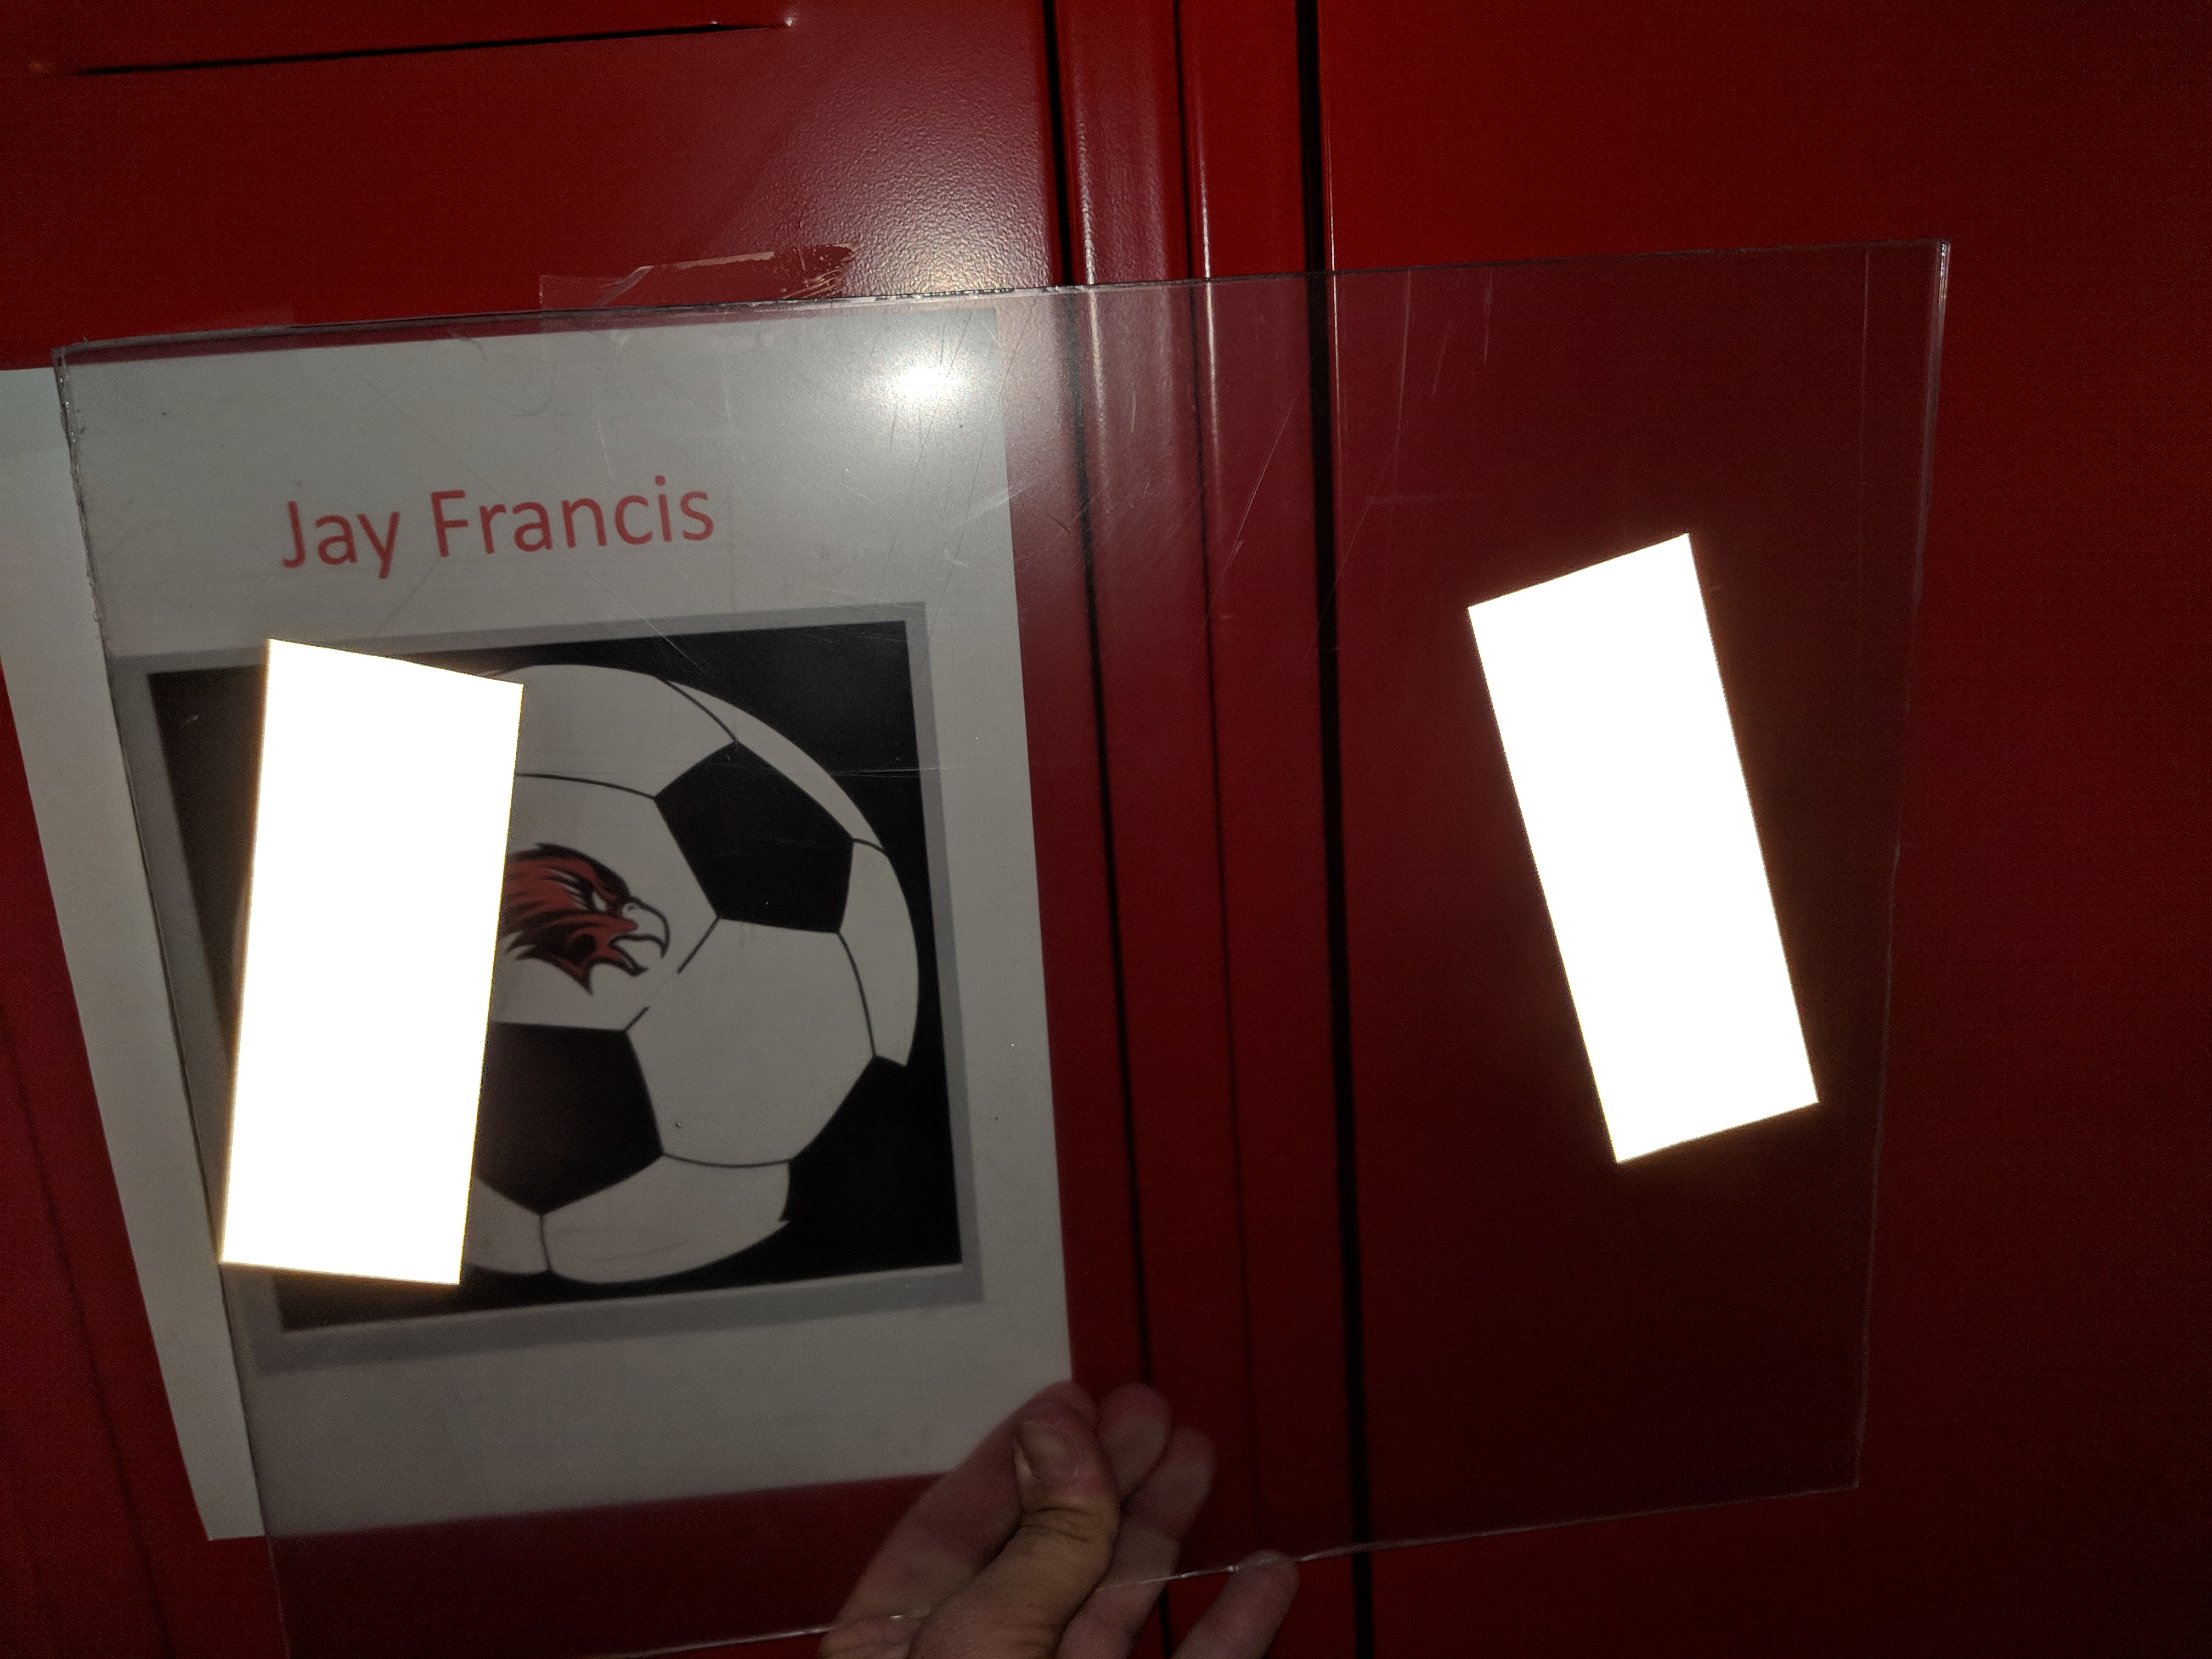vision_target: (193, 519, 1872, 1300)
